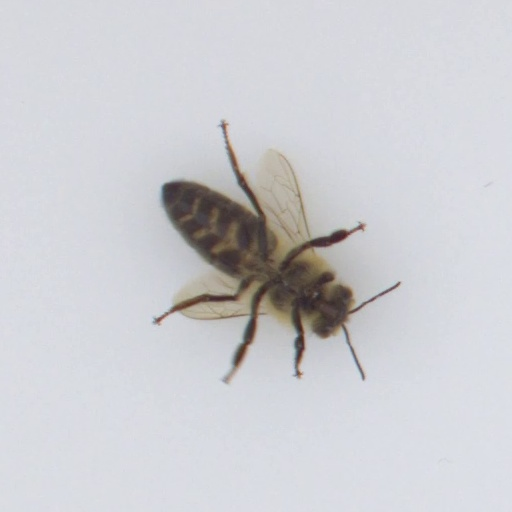Bee: (132, 157, 380, 349)
